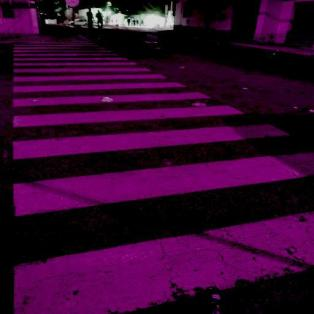Paso de Cebra: (7, 90, 258, 130), (9, 61, 154, 75)
